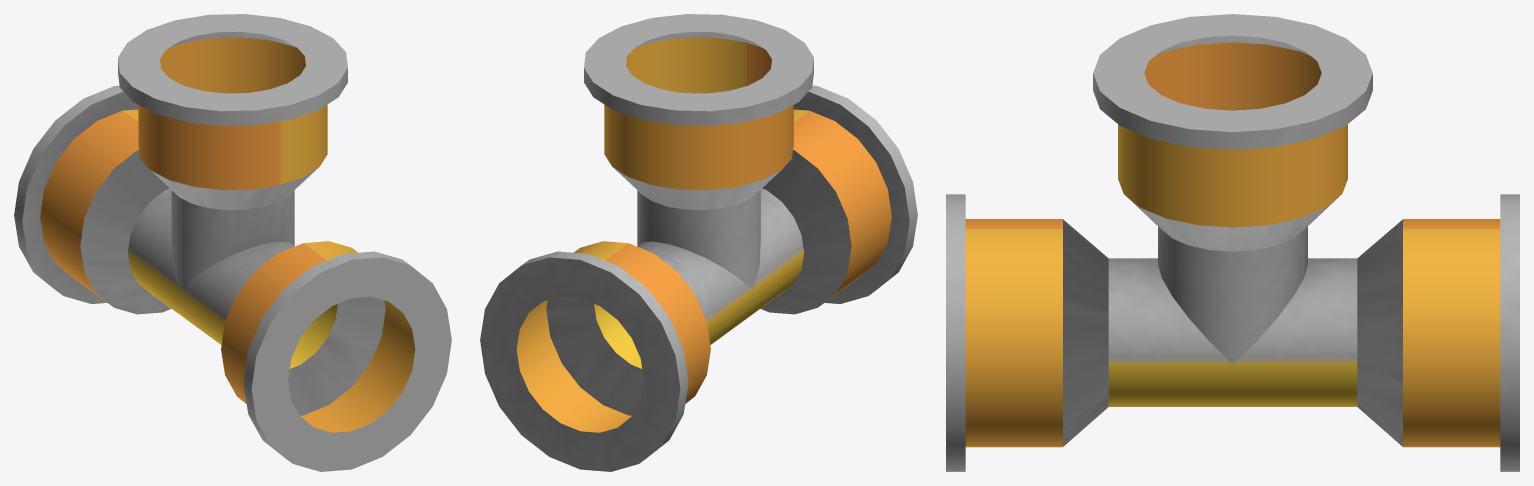
The model's file is Tube_Triple.fbx.
The picture shows the model from 3 angles, left to right: view 1: azimuth 30°, elevation 25°; view 2: azimuth 150°, elevation 25°; view 3: azimuth 270°, elevation 25°; orthographic projection. The views are drawn at different scales.
Visible parts, largest first — view 1: Tube_Triple; view 2: Tube_Triple; view 3: Tube_Triple.
Boxes of the visible parts, x1=… form: Tube_Triple: x1=14, y1=14, x2=451, y2=471; Tube_Triple: x1=480, y1=14, x2=917, y2=471; Tube_Triple: x1=946, y1=14, x2=1519, y2=471.
Bounding box in the file's own units: 6.82 × 10.41 × 14.
1 material, 1 textured.
